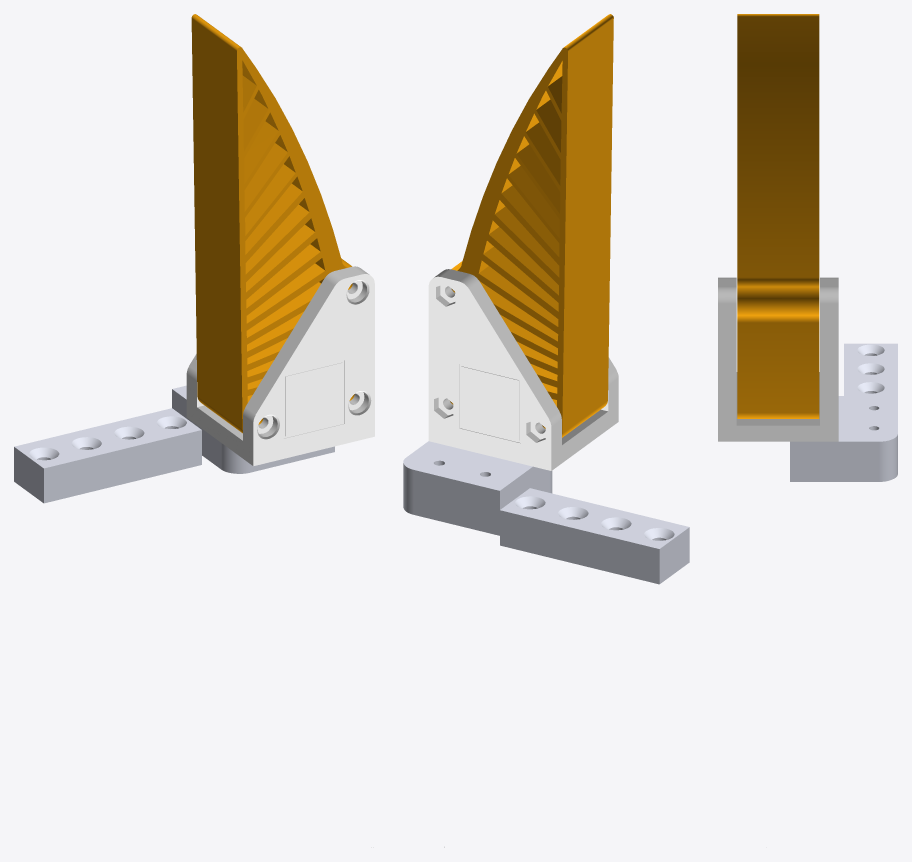
The model's file is right_finger.dae.
3 views of the same model, side by side, from view 1: azimuth 30°, elevation 25°; view 2: azimuth 150°, elevation 25°; view 3: azimuth 270°, elevation 25° (orthographic). The views are drawn at different scales.
Visible parts, largest first — view 1: ??1, _?1, ___3?_?____Y__a2?3_?_?Y__?D1; view 2: ??1, ___3?_?____Y__a2?3_?_?Y__?D1, _?1; view 3: ??1, ___3?_?____Y__a2?3_?_?Y__?D1, _?1.
Part boxes in pixels (x1,y1,x2,y2): ??1: (191,14,354,433); _?1: (186,266,374,466); ___3?_?____Y__a2?3_?_?Y__?D1: (14,385,334,503); ??1: (450,14,613,437); ___3?_?____Y__a2?3_?_?Y__?D1: (403,441,689,584); _?1: (428,269,618,470); ??1: (737,14,819,418); ___3?_?____Y__a2?3_?_?Y__?D1: (790,343,897,481); _?1: (718,277,838,441).
Bounding box in the file's own units: 0.0944 × 0.0567 × 0.2668.
